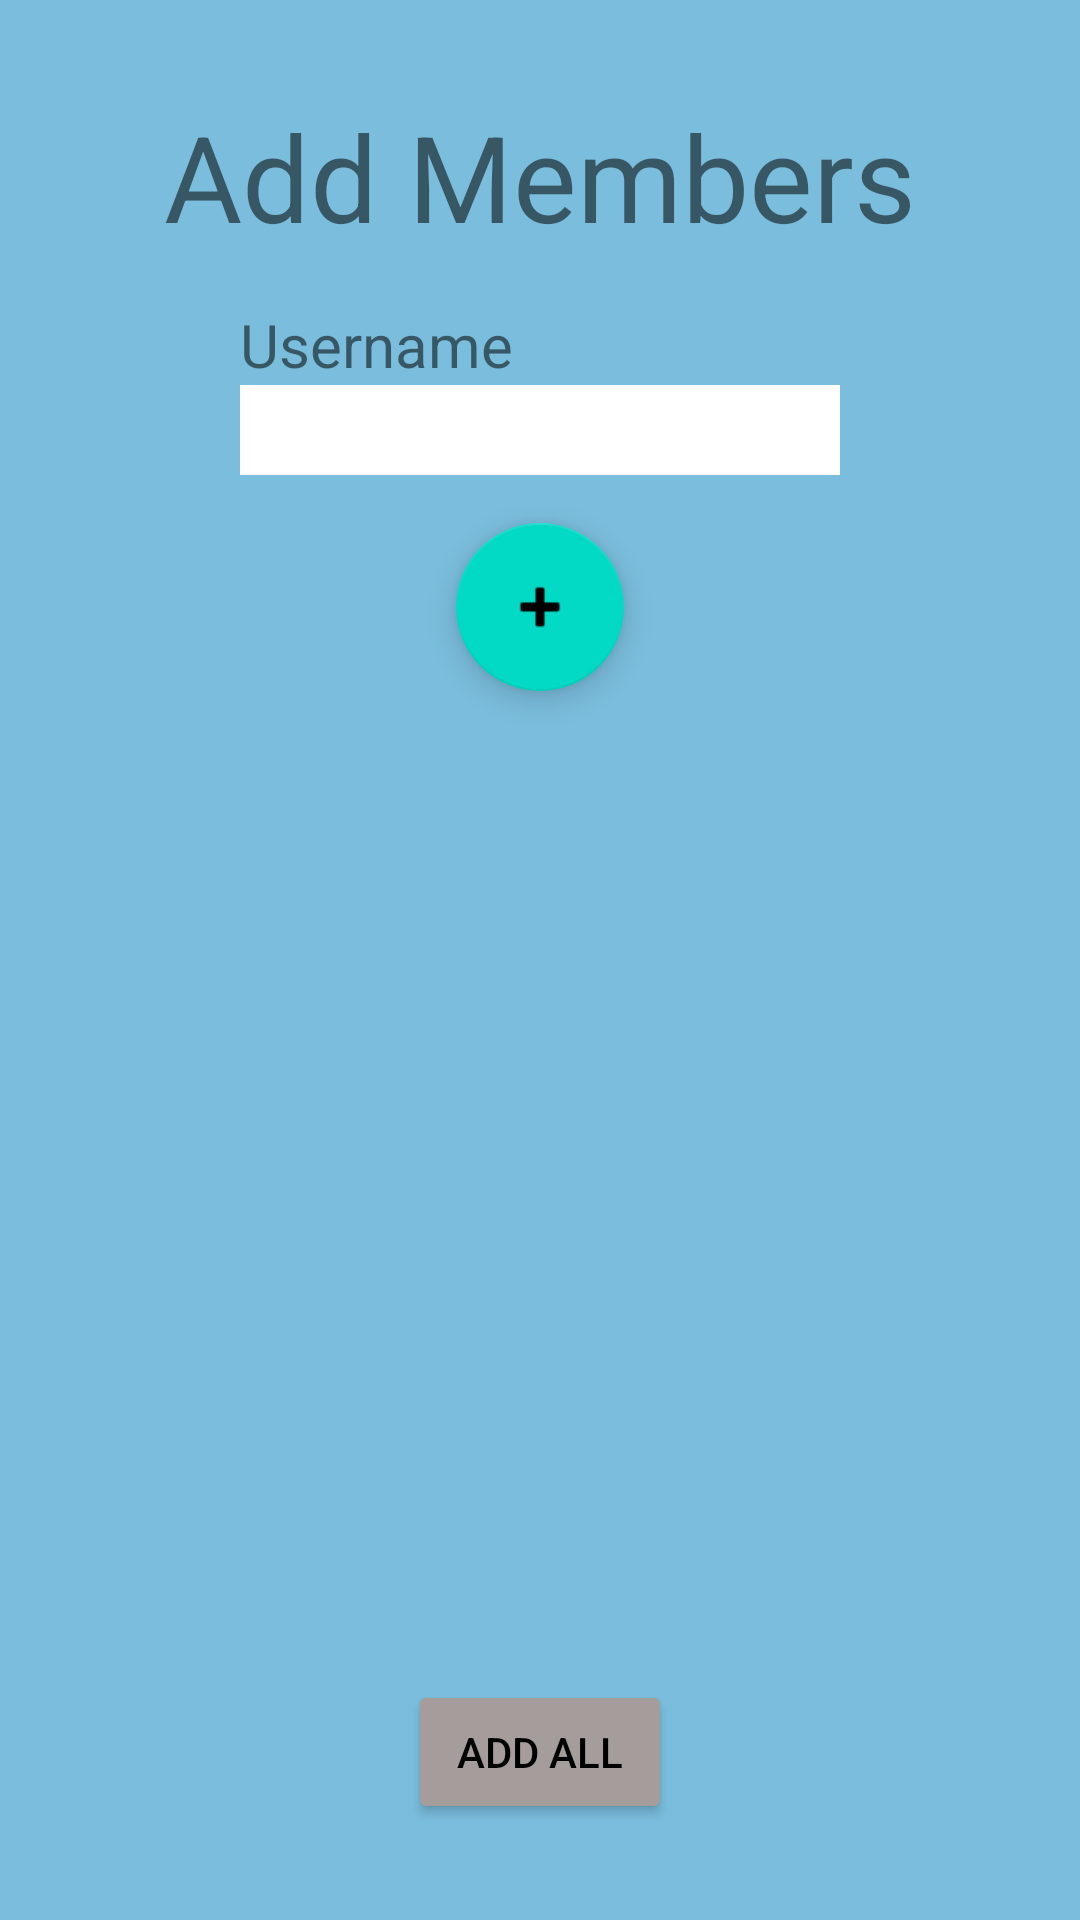

Icons on this 1080 x 1920 Android screen, each with its box as (x1, y1, x2, y2):
add: (456, 523, 624, 691)
